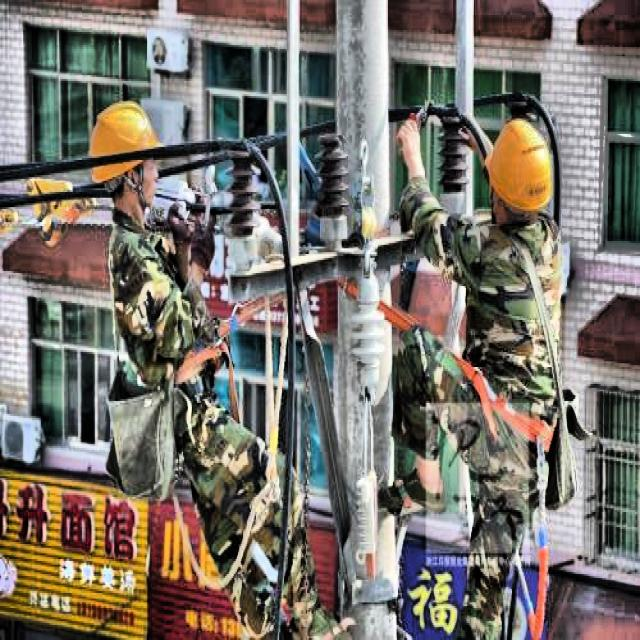helmet: (83, 86, 170, 226), (484, 111, 558, 228)
